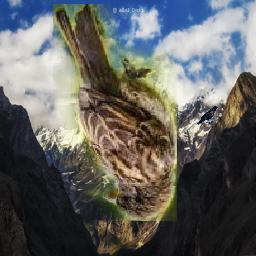Crow: (196, 105, 218, 125)
Sparrow: (53, 5, 177, 222)
